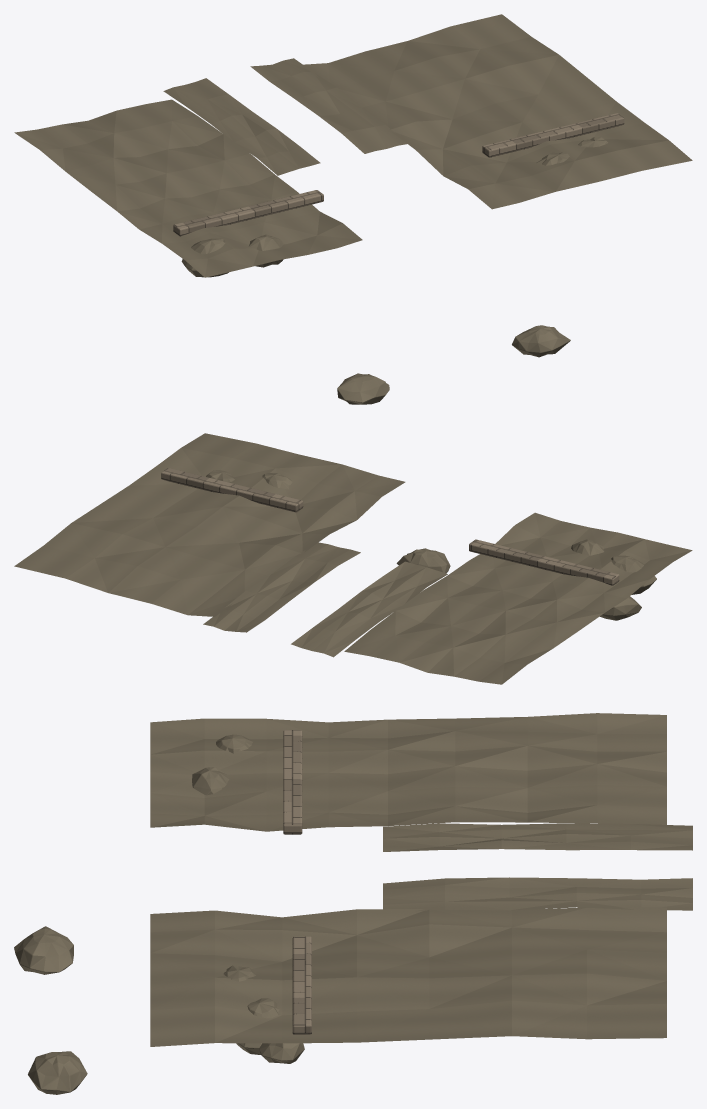
Rendered from PremiumHeroContactUpliftV2.glb.
The picture shows the model from 3 angles, top to bottom: view 1: azimuth 30°, elevation 25°; view 2: azimuth 150°, elevation 25°; view 3: azimuth 270°, elevation 25°; orthographic projection. The views are drawn at different scales.
Visible parts, largest first — view 1: HeroGround_East, HeroGround_West, HeroRoadVerge_West, HeroRoadVerge_East, GateFoundation_West, GateFoundation_East, ShoreRock_East, ShoreRock_West, RockContact_West; view 2: HeroGround_East, HeroGround_West, HeroRoadVerge_West, HeroRoadVerge_East, GateFoundation_West, GateFoundation_East, RockContact_West, ShoreRock_East, RockContact_East, ShoreRock_West; view 3: HeroGround_East, HeroGround_West, HeroRoadVerge_East, HeroRoadVerge_West, ShoreRock_West, GateFoundation_West, GateFoundation_East, ShoreRock_East, RockContact_East, RockContact_West.
Part boxes in pixels (x1,y1,x2,y2): HeroGround_East: (301,14,692,209); HeroGround_West: (14,99,362,277); HeroRoadVerge_West: (163,78,320,175); HeroRoadVerge_East: (250,58,406,153); GateFoundation_West: (173,190,323,236); GateFoundation_East: (482,113,624,157); ShoreRock_East: (512,325,570,357); ShoreRock_West: (337,373,389,404); RockContact_West: (181,234,283,277); HeroGround_East: (14,433,405,616); HeroGround_West: (344,512,692,684); HeroRoadVerge_West: (291,561,447,657); HeroRoadVerge_East: (203,542,360,632); GateFoundation_West: (469,539,619,585); GateFoundation_East: (161,468,303,512); RockContact_West: (571,539,656,594); ShoreRock_East: (396,548,450,573); RockContact_East: (206,470,292,489); ShoreRock_West: (600,596,641,620); HeroGround_East: (150,907,666,1046); HeroGround_West: (150,713,666,831); HeroRoadVerge_East: (383,877,692,911); HeroRoadVerge_West: (383,823,692,851); ShoreRock_West: (14,926,73,974); GateFoundation_West: (283,730,302,834); GateFoundation_East: (292,936,311,1034); ShoreRock_East: (28,1051,87,1094); RockContact_East: (223,965,304,1063); RockContact_West: (192,734,252,795).
Size of the model in its own units: 29.5 by 7.43 by 26.28.
Materials: 4 (4 with a texture image).
